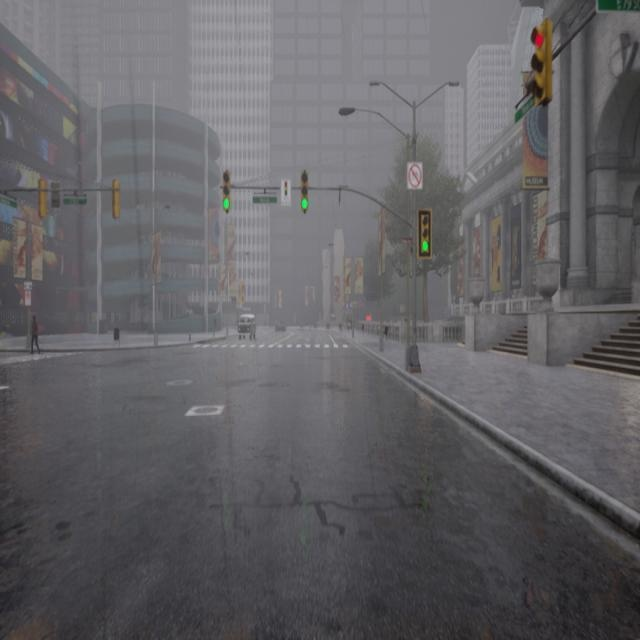bien_chi_dan: (530, 20, 554, 106), (219, 167, 236, 216), (419, 208, 432, 262), (298, 172, 312, 218), (408, 162, 424, 188), (532, 26, 548, 50), (420, 239, 429, 254), (300, 200, 310, 212), (222, 198, 230, 212)
